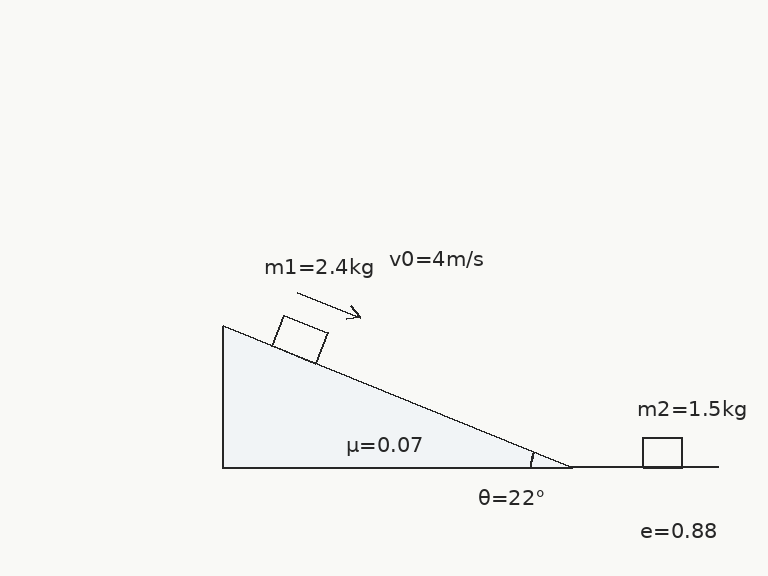block: (270, 312, 329, 365), (640, 436, 684, 469)
ramp: (220, 324, 573, 469)
